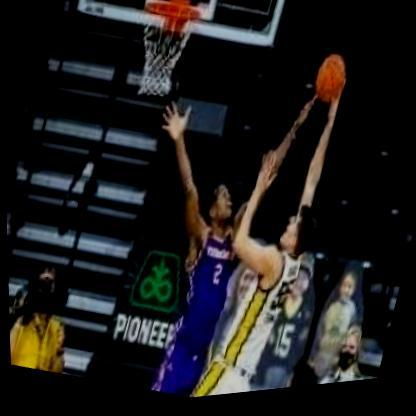basketball: (302, 52, 353, 115)
